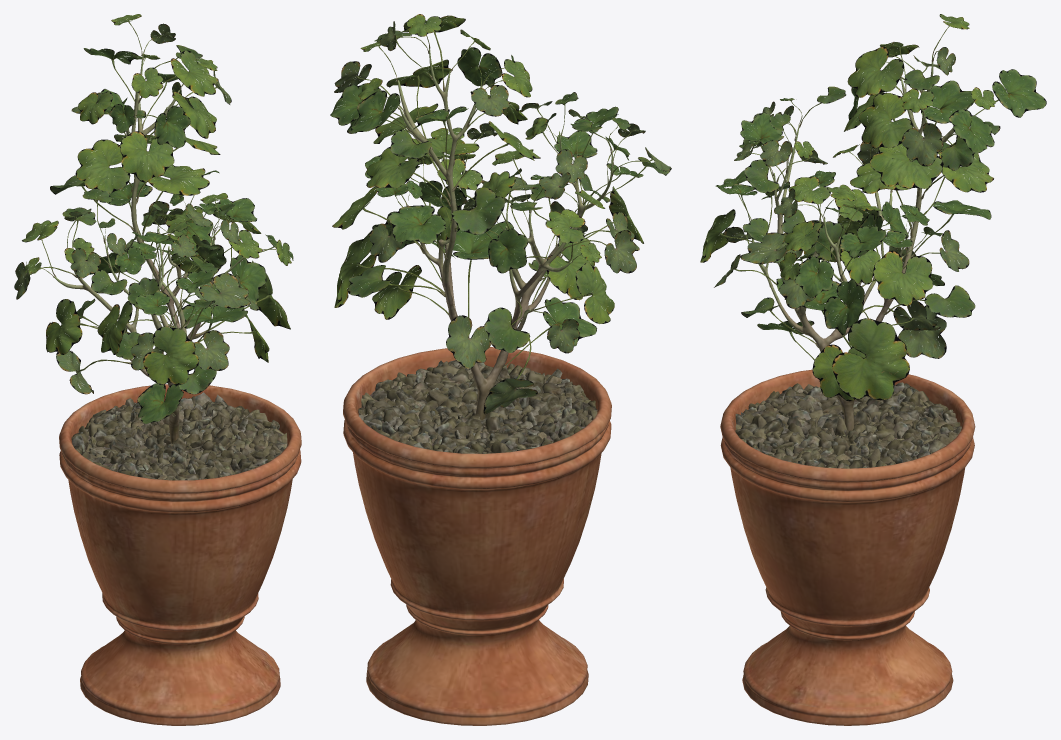
The model's file is potted_plant_01_leaf_lod.gltf.
3 views of the same model, side by side, from view 1: azimuth 30°, elevation 25°; view 2: azimuth 150°, elevation 25°; view 3: azimuth 270°, elevation 25° (orthographic). The views are drawn at different scales.
Visible parts, largest first — view 1: potted_plant_01_pot, potted_plant_01_leaves, potted_plant_01_pebbles, potted_plant_01_stem; view 2: potted_plant_01_pot, potted_plant_01_leaves, potted_plant_01_pebbles, potted_plant_01_stem; view 3: potted_plant_01_pot, potted_plant_01_leaves, potted_plant_01_pebbles, potted_plant_01_stem.
Boxes of the visible parts, left/top/right/bottom form: potted_plant_01_pot: left=59, top=384, right=301, bottom=725; potted_plant_01_leaves: left=14, top=14, right=293, bottom=423; potted_plant_01_pebbles: left=71, top=392, right=287, bottom=480; potted_plant_01_stem: left=53, top=54, right=244, bottom=443; potted_plant_01_pot: left=343, top=347, right=611, bottom=725; potted_plant_01_leaves: left=330, top=14, right=671, bottom=414; potted_plant_01_pebbles: left=358, top=360, right=597, bottom=453; potted_plant_01_stem: left=397, top=48, right=612, bottom=420; potted_plant_01_pot: left=720, top=369, right=975, bottom=725; potted_plant_01_leaves: left=700, top=14, right=1046, bottom=401; potted_plant_01_pebbles: left=735, top=382, right=961, bottom=468; potted_plant_01_stem: left=751, top=55, right=966, bottom=431.
Size of the model in its own units: 0.5874 by 1.34 by 0.6336.
Materials: 2 (2 with a texture image).
